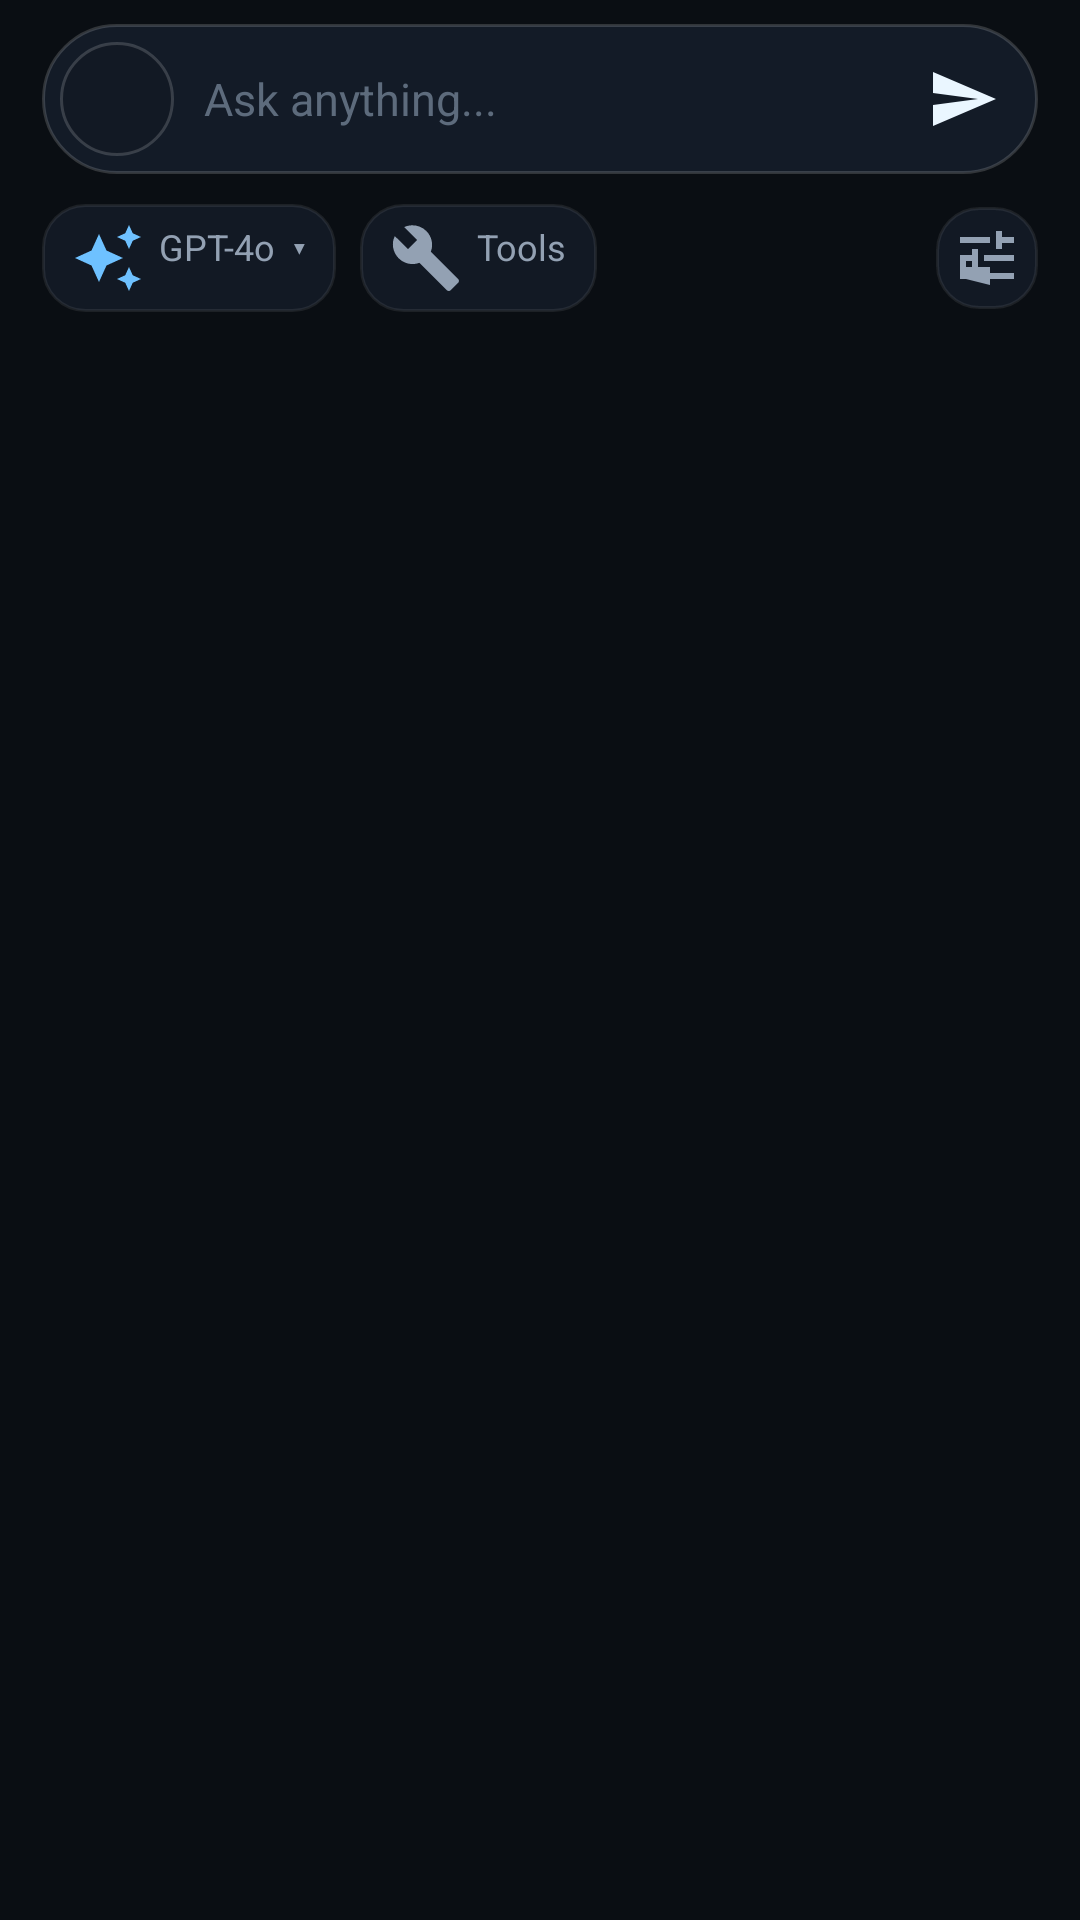

Icons on this 1080×1920 Android screen, each with the point to tap as [x,y]:
Composer options: [987,258]
Send: [964,99]
